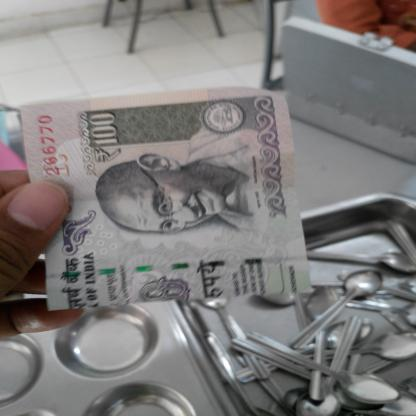Old100Front: (19, 87, 312, 312)
